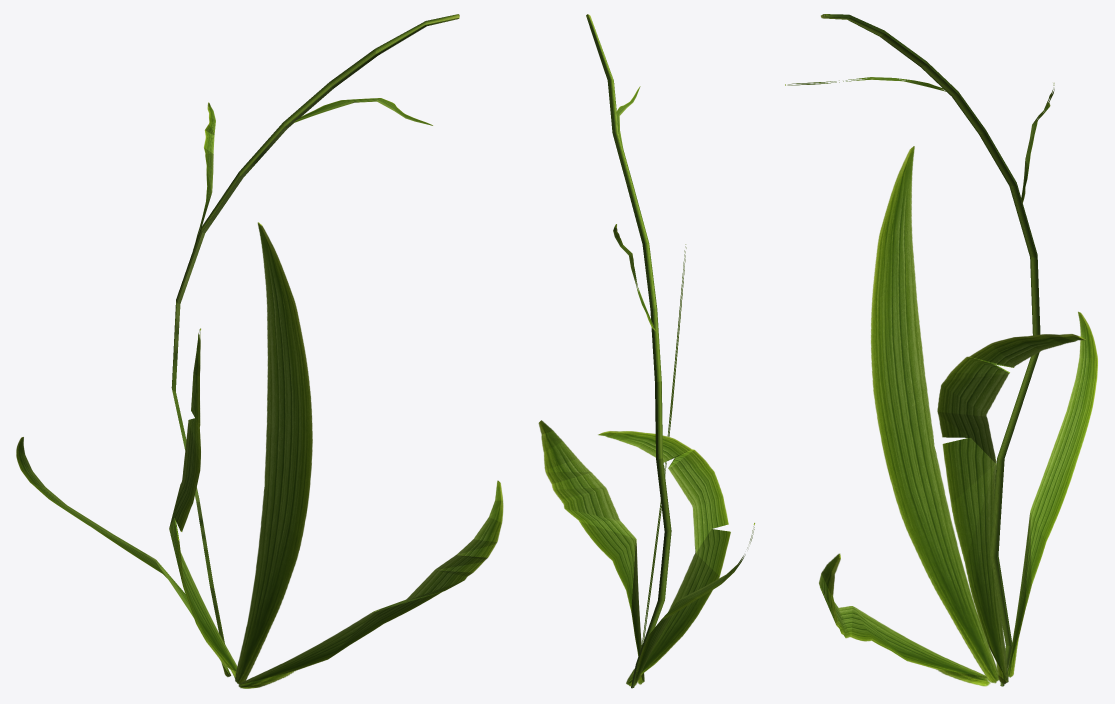
Rendered from grass_02.glb.
3 renders of one model, left to right at view 1: azimuth 30°, elevation 25°; view 2: azimuth 150°, elevation 25°; view 3: azimuth 270°, elevation 25°, orthographic. The views are drawn at different scales.
Visible parts, largest first — view 1: Pasto compuesto 1; view 2: Pasto compuesto 1; view 3: Pasto compuesto 1.
Boxes of the visible parts, x1=… form: Pasto compuesto 1: x1=16, y1=14, x2=503, y2=688; Pasto compuesto 1: x1=538, y1=14, x2=754, y2=688; Pasto compuesto 1: x1=785, y1=14, x2=1097, y2=686.
Size of the model in its own units: 0.6729 by 1.21 by 0.4658.
Materials: 2 (2 with a texture image).
